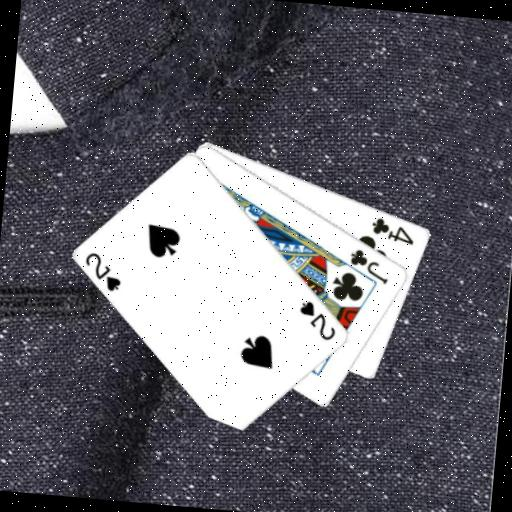2S: (295, 297, 341, 343), (80, 248, 126, 294)
4C: (368, 214, 418, 247)
JC: (346, 245, 393, 286)
